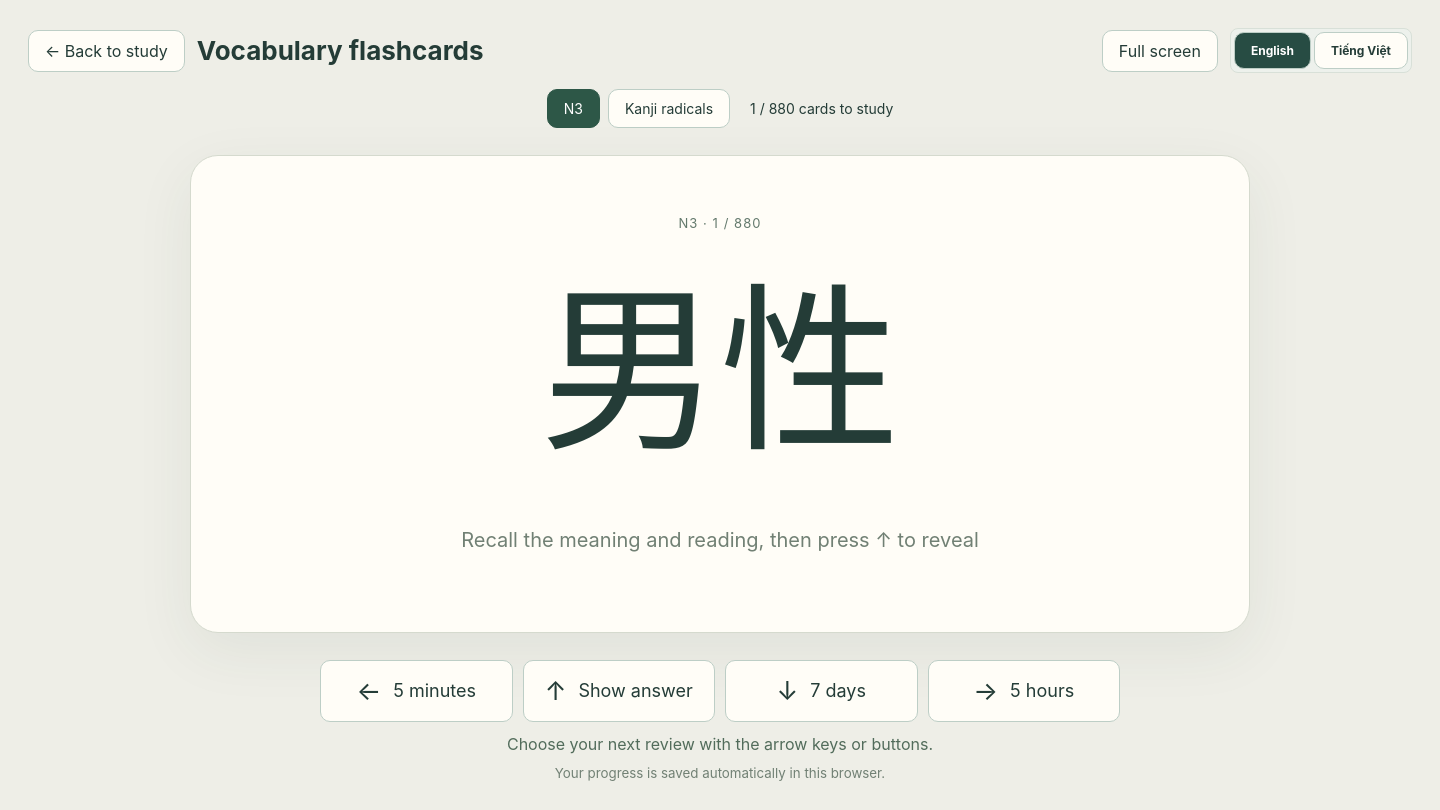
prioritizes due reviews and wakes automatically when the deck is completed
Expected: the text "男性" is shown, x1=540 y1=257 x2=900 y2=482
What coordinates should you click on to do the following:
click the button "→ 5 hours"
I would click on:
 (1024, 691)
Its box is x1=928 y1=660 x2=1120 y2=722.
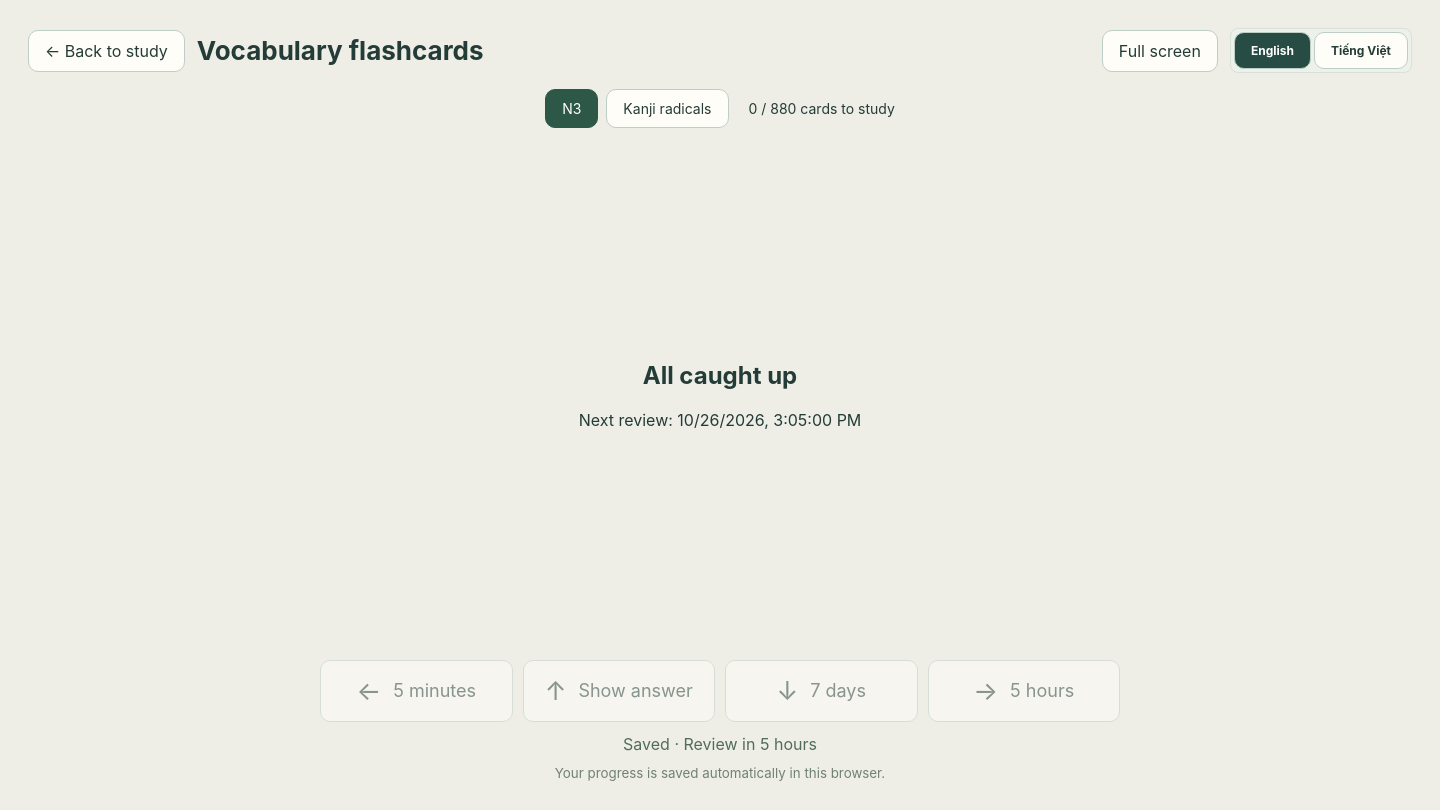
Now the text "男性" is gone
